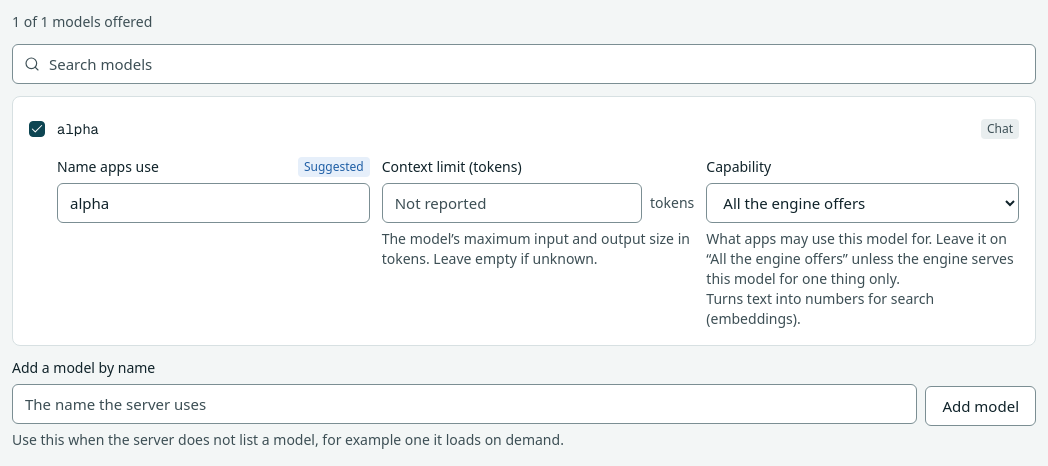
Test: Add a model by name says why nothing happened › a name that is already listed says where to find it
The image size is (1048, 466).
Type "alpha" into the field labelled "Add a model by name".
click(465, 404); type("alpha")  # box 12,384 -> 917,424
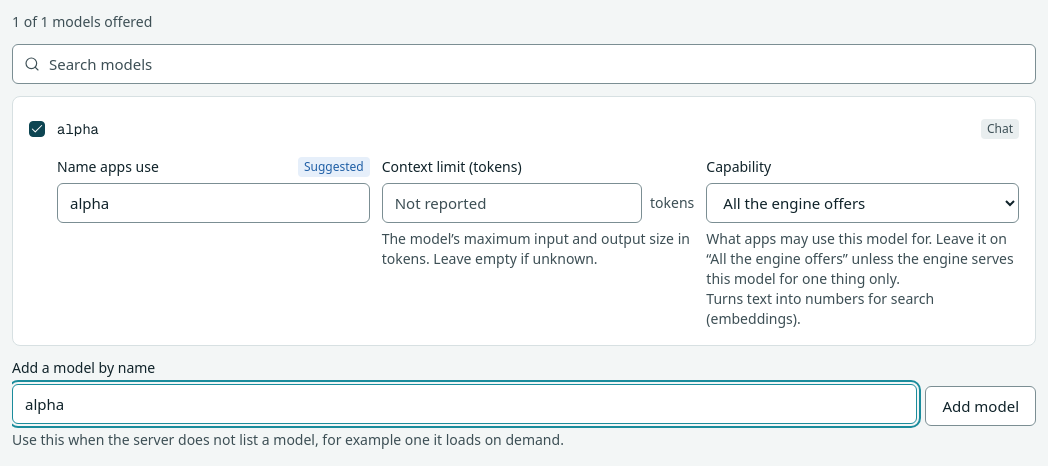
Click the button "Add model".
click(981, 406)  # box 925,386 -> 1036,426
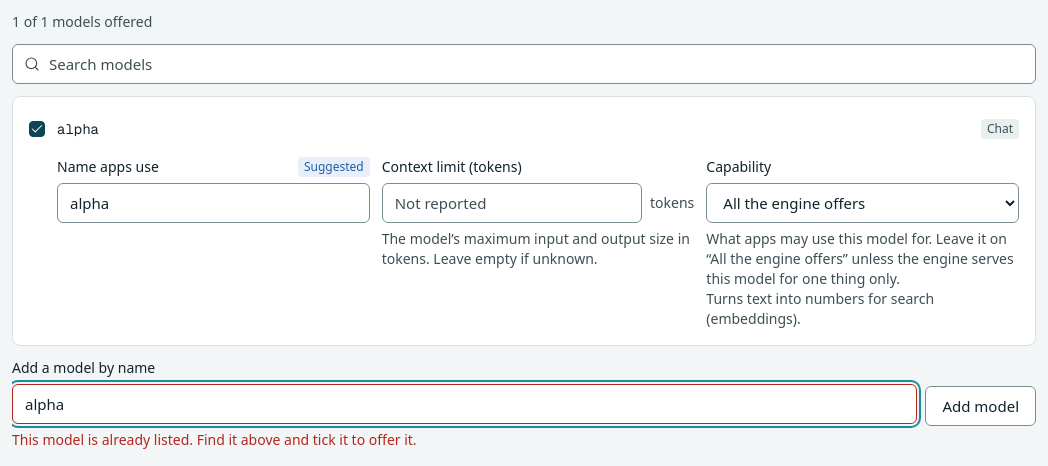
Expected: the text "1 of 1 models offered" is shown, 12,12 -> 152,31
Expected: the text "This model is already listed. Find it above and tick it to offer it." is shown, 12,430 -> 417,449
